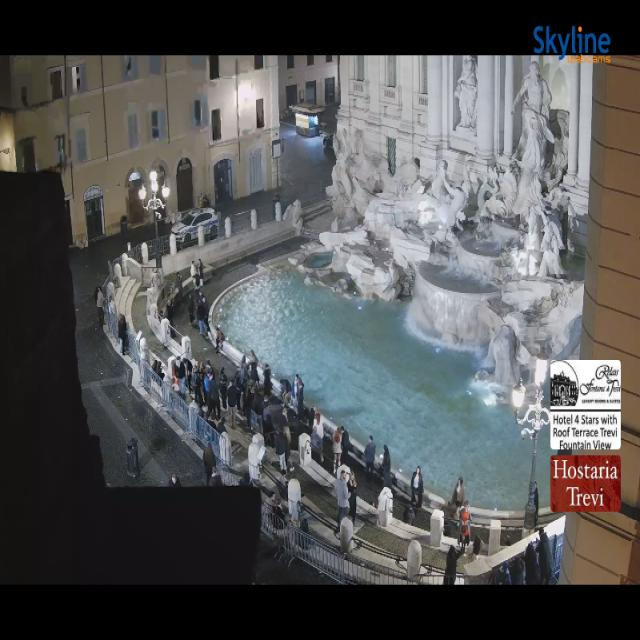person: (256, 384, 299, 432), (272, 395, 306, 441), (196, 363, 219, 427), (272, 393, 307, 430), (252, 388, 275, 442), (272, 423, 290, 487), (260, 385, 292, 421), (260, 384, 291, 421), (278, 403, 306, 439), (283, 405, 311, 439), (201, 365, 219, 416), (536, 530, 553, 584), (192, 363, 210, 412), (284, 404, 310, 435), (336, 470, 349, 530), (264, 397, 283, 438), (283, 390, 307, 422), (456, 502, 471, 552), (268, 479, 287, 518), (443, 545, 462, 584), (159, 355, 184, 384), (170, 356, 187, 398), (457, 500, 472, 547), (444, 503, 462, 542), (263, 391, 284, 424), (234, 371, 249, 416), (444, 504, 461, 543), (264, 398, 286, 428), (280, 405, 302, 435), (192, 362, 206, 405), (456, 500, 470, 543), (207, 369, 219, 418), (172, 357, 186, 399), (291, 380, 306, 419), (104, 290, 119, 329), (451, 478, 465, 519), (525, 543, 539, 584), (174, 356, 187, 399), (296, 518, 313, 550), (101, 291, 116, 327), (209, 370, 220, 419), (443, 504, 459, 537), (262, 402, 275, 442), (283, 424, 294, 471), (455, 500, 467, 543), (203, 443, 215, 485), (411, 466, 423, 508), (276, 430, 287, 475), (364, 436, 375, 481), (244, 384, 255, 429), (228, 370, 240, 411), (192, 363, 203, 407), (210, 366, 220, 414), (460, 503, 470, 551), (253, 385, 263, 432), (196, 362, 207, 404), (340, 426, 351, 467), (159, 299, 174, 328), (248, 351, 260, 387), (175, 358, 186, 397), (199, 404, 216, 429), (105, 289, 118, 321), (238, 368, 247, 414), (196, 297, 206, 338), (348, 472, 356, 523), (333, 429, 342, 474), (452, 477, 465, 508), (118, 315, 128, 355), (338, 425, 348, 465), (119, 315, 129, 355), (311, 426, 322, 462), (227, 384, 236, 428), (382, 445, 391, 489), (300, 408, 315, 434), (165, 299, 175, 338), (275, 475, 290, 501), (510, 557, 524, 584), (285, 382, 298, 410), (468, 536, 482, 562), (203, 369, 211, 414), (234, 372, 243, 412), (274, 497, 285, 529), (276, 472, 289, 499), (219, 368, 227, 410), (105, 289, 117, 317), (95, 288, 104, 325), (312, 408, 323, 438), (167, 360, 178, 390), (296, 379, 304, 419), (208, 466, 223, 487), (210, 411, 225, 432), (496, 563, 511, 584), (184, 358, 193, 392), (313, 408, 323, 438), (200, 363, 207, 405), (204, 406, 216, 430), (276, 475, 287, 501), (306, 408, 316, 435), (265, 395, 283, 410), (212, 416, 226, 435), (246, 357, 256, 383), (240, 356, 248, 388), (291, 375, 299, 407), (259, 384, 270, 407), (211, 466, 223, 487), (462, 499, 472, 524), (164, 299, 174, 324), (264, 364, 272, 395), (170, 360, 179, 387), (200, 405, 212, 425), (404, 504, 415, 525), (534, 482, 539, 528), (152, 360, 164, 379), (176, 272, 183, 304), (188, 293, 195, 325), (216, 325, 224, 353), (280, 378, 291, 398), (272, 489, 286, 504), (249, 362, 259, 383), (190, 259, 199, 282), (192, 290, 202, 310), (216, 417, 227, 435), (372, 498, 379, 525), (104, 288, 115, 305), (168, 473, 181, 487), (108, 293, 116, 315), (156, 360, 165, 379), (169, 473, 181, 487), (284, 423, 296, 437), (194, 270, 202, 290), (239, 472, 251, 485), (294, 373, 301, 394), (205, 313, 211, 336), (291, 373, 299, 390), (282, 406, 289, 425), (156, 309, 166, 322), (283, 392, 292, 406), (198, 259, 203, 284), (250, 350, 258, 365), (196, 406, 205, 418), (205, 359, 212, 374), (196, 291, 204, 304), (150, 358, 156, 374), (191, 260, 196, 278), (505, 535, 512, 547), (94, 288, 100, 302), (372, 497, 378, 509), (152, 360, 157, 374), (158, 310, 164, 321), (222, 376, 227, 388), (556, 450, 564, 455), (300, 379, 303, 387)
